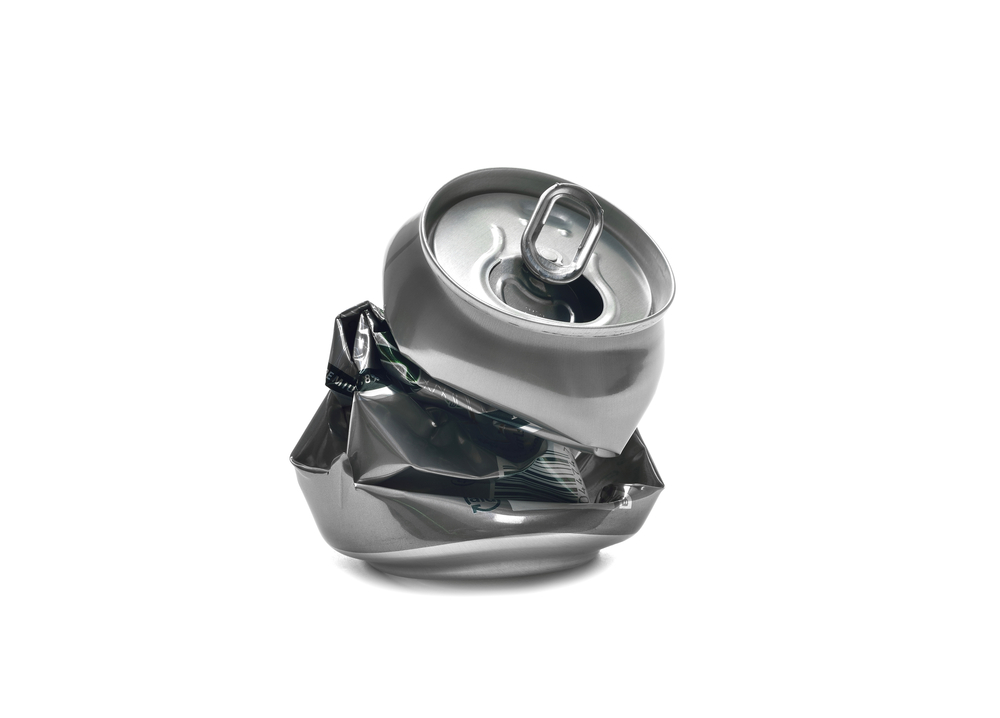can: (289, 165, 678, 582)
